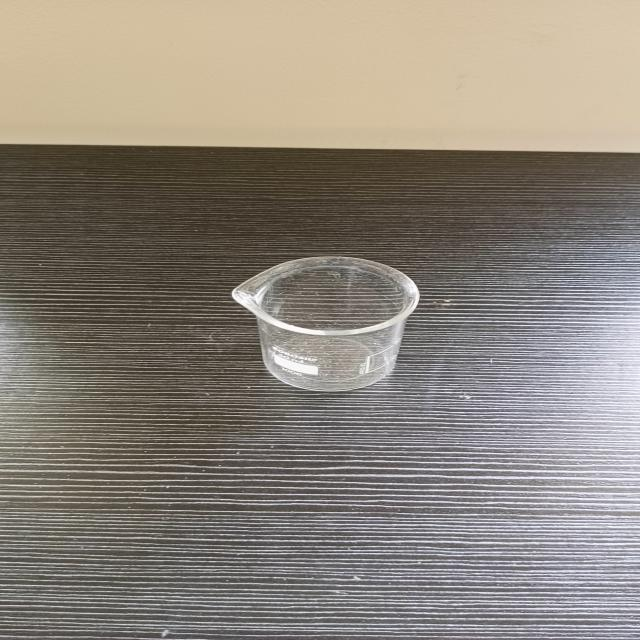beaker: (224, 250, 425, 396)
